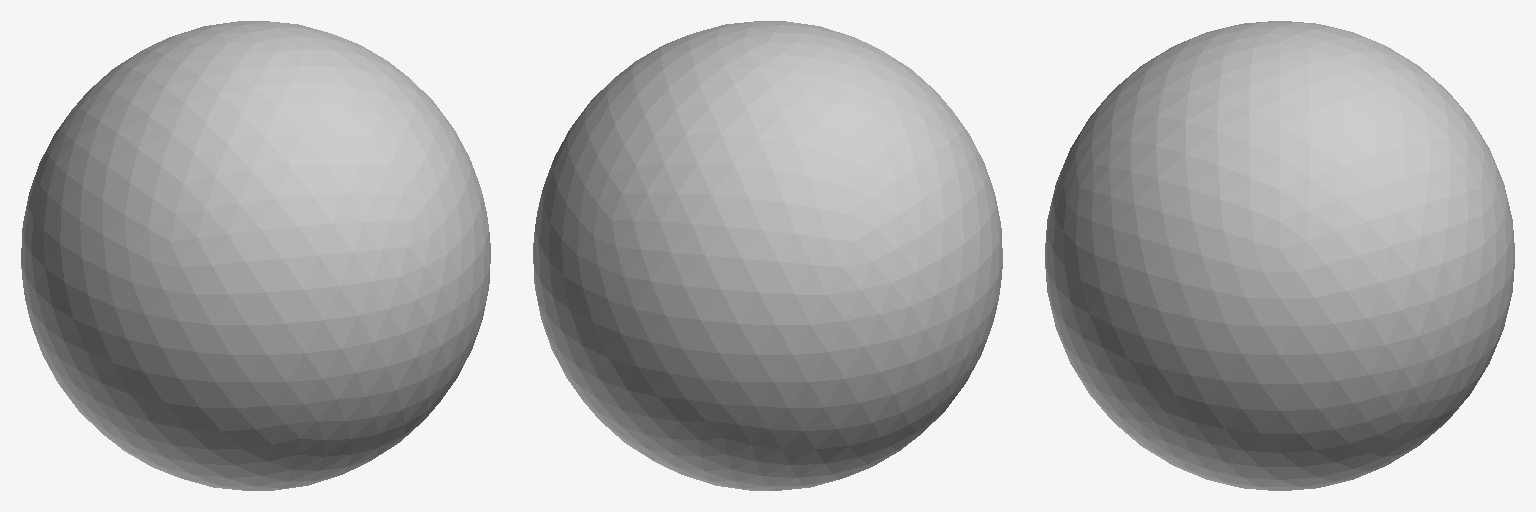
File: intersected_mesh_0.obj
The picture shows the model from 3 angles: view 1: azimuth 30°, elevation 25°; view 2: azimuth 150°, elevation 25°; view 3: azimuth 270°, elevation 25°; orthographic projection.
Visible parts, largest first — view 1: Icosphere; view 2: Icosphere; view 3: Icosphere.
Part boxes in pixels (bbox=[...]): Icosphere: bbox=[21, 21, 490, 490]; Icosphere: bbox=[533, 21, 1002, 490]; Icosphere: bbox=[1045, 21, 1514, 490].
Size of the model in its own units: 2 by 2 by 2.